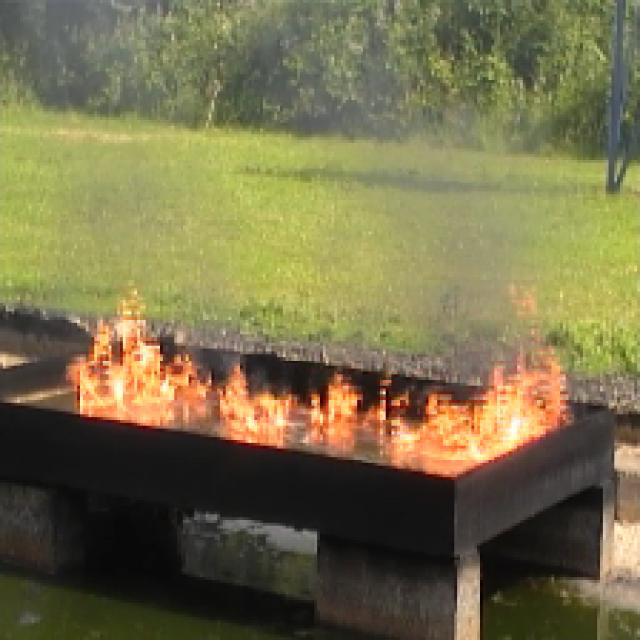fire: (74, 333, 582, 460)
